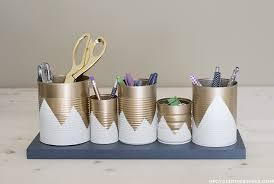Tin: (23, 38, 256, 157)
